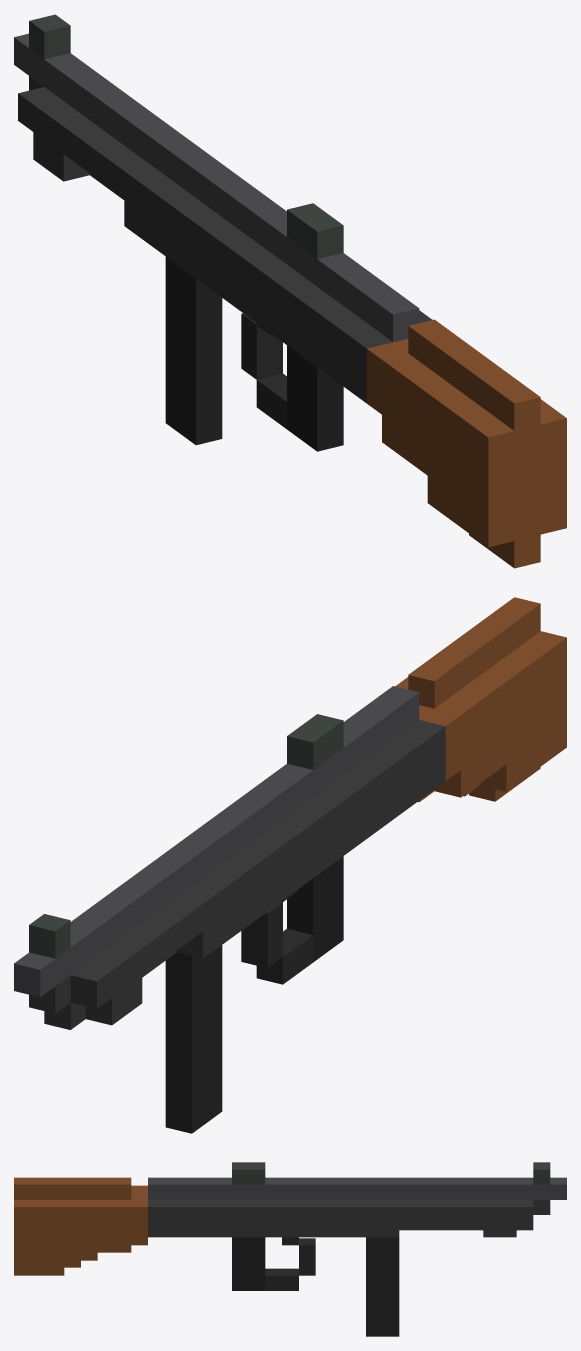
File: automatic_rifle.obj
3 views of the same model, one above another, from view 1: azimuth 30°, elevation 25°; view 2: azimuth 150°, elevation 25°; view 3: azimuth 270°, elevation 25° (orthographic). The views are drawn at different scales.
Size of the model in its own units: 0.3 by 1.1 by 3.3.
Materials: 1 (1 with a texture image).
